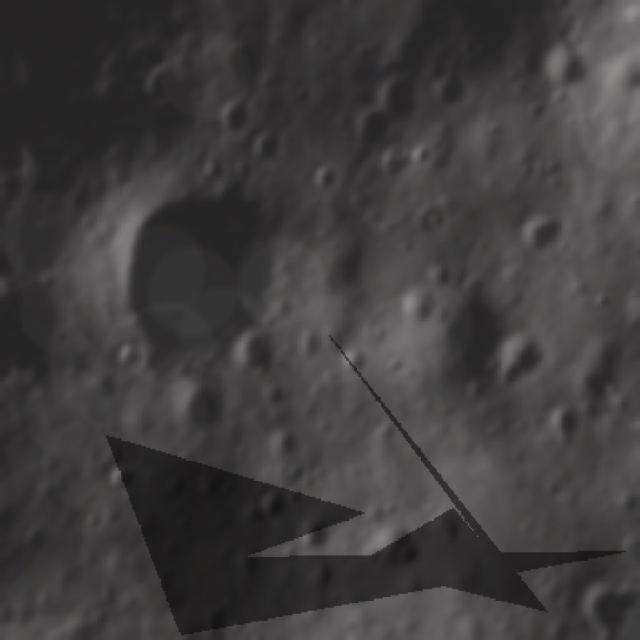crater: (101, 187, 294, 370), (415, 283, 513, 397), (0, 277, 77, 400), (579, 328, 626, 421), (495, 329, 554, 398), (509, 204, 569, 264), (168, 383, 230, 440), (578, 584, 639, 640), (0, 131, 38, 214), (18, 511, 78, 563), (234, 328, 288, 381), (542, 399, 584, 464), (348, 105, 399, 157), (598, 45, 640, 103), (140, 60, 192, 106), (376, 72, 422, 120), (547, 44, 585, 102), (294, 516, 346, 558), (248, 483, 289, 531), (218, 102, 257, 148), (220, 49, 262, 91), (388, 540, 432, 578), (433, 73, 469, 118), (248, 128, 289, 166), (340, 342, 375, 382), (110, 346, 148, 382), (269, 428, 305, 464), (396, 291, 432, 326), (107, 465, 139, 504), (508, 159, 543, 190), (298, 330, 327, 364), (197, 161, 234, 187), (226, 611, 260, 638), (548, 156, 570, 192)
